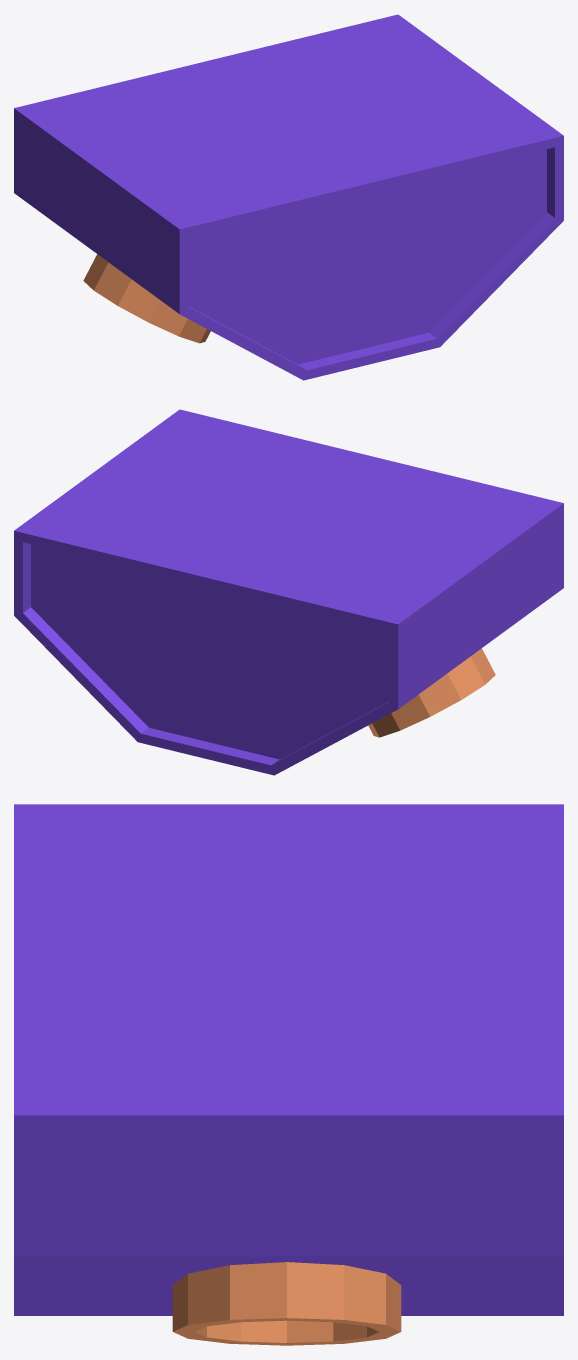
File: Turret Base FBX.fbx
The picture shows the model from 3 angles, top to bottom: view 1: azimuth 30°, elevation 25°; view 2: azimuth 150°, elevation 25°; view 3: azimuth 270°, elevation 25°; orthographic projection. The views are drawn at different scales.
Parts seen in each view (by area): view 1: Turret Base, Base Thrusters; view 2: Turret Base, Base Thrusters; view 3: Turret Base, Base Thrusters.
Boxes of the visible parts, box(x1,y1,x2,y2) form: Turret Base: box(14, 14, 563, 380); Base Thrusters: box(83, 254, 210, 343); Turret Base: box(14, 409, 563, 775); Base Thrusters: box(368, 648, 495, 737); Turret Base: box(14, 804, 563, 1315); Base Thrusters: box(172, 1262, 401, 1345).
Size of the model in its own units: 98.73 by 44.96 by 72.42.
